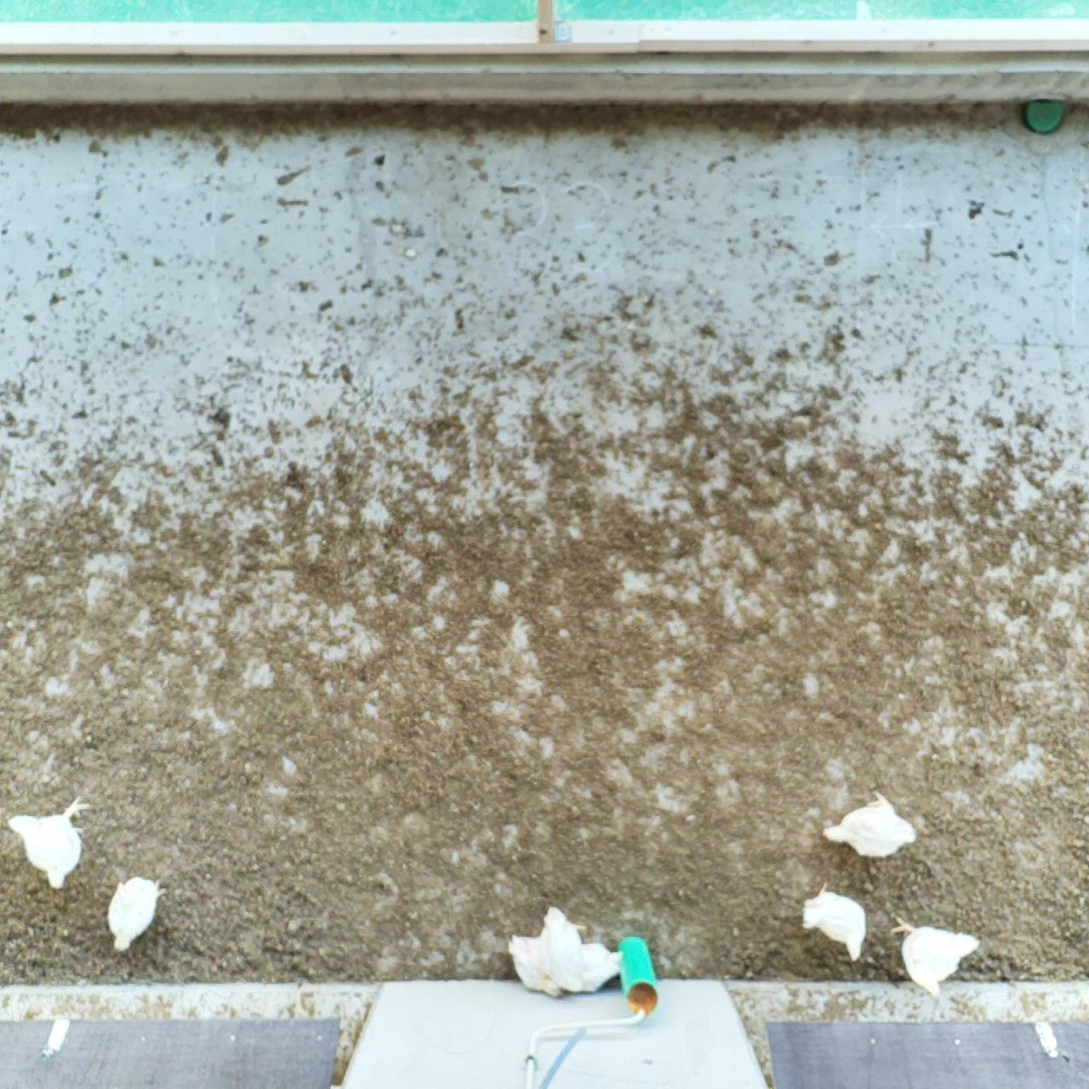chicken: (9, 790, 96, 896), (817, 780, 922, 867), (889, 911, 983, 1008), (795, 878, 872, 966), (103, 873, 172, 959), (537, 902, 589, 998), (506, 929, 568, 1003), (581, 939, 623, 999)
